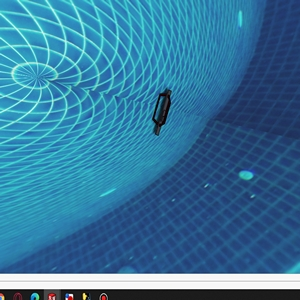submarine: (154, 89, 171, 135)
